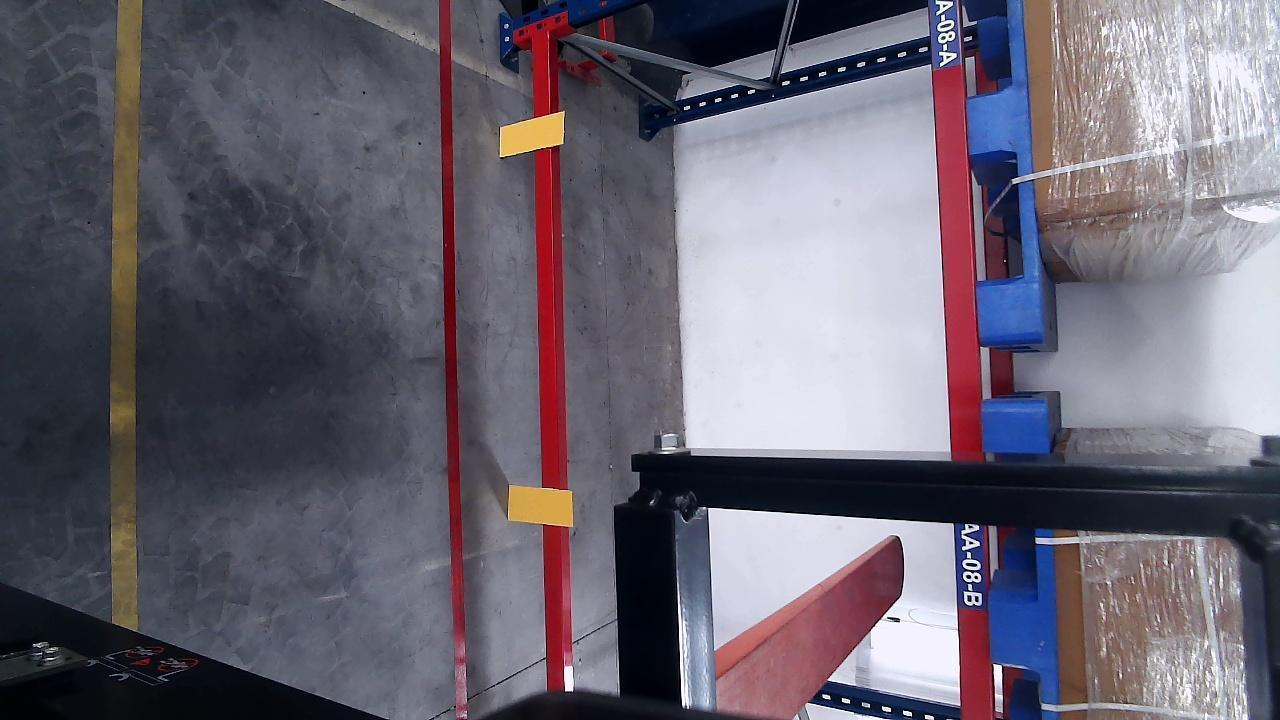red_line: (438, 1, 469, 720)
yellow_line: (112, 0, 144, 628)
